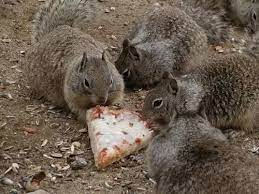squirrel: (28, 2, 125, 110), (118, 5, 225, 87), (143, 56, 259, 129)
